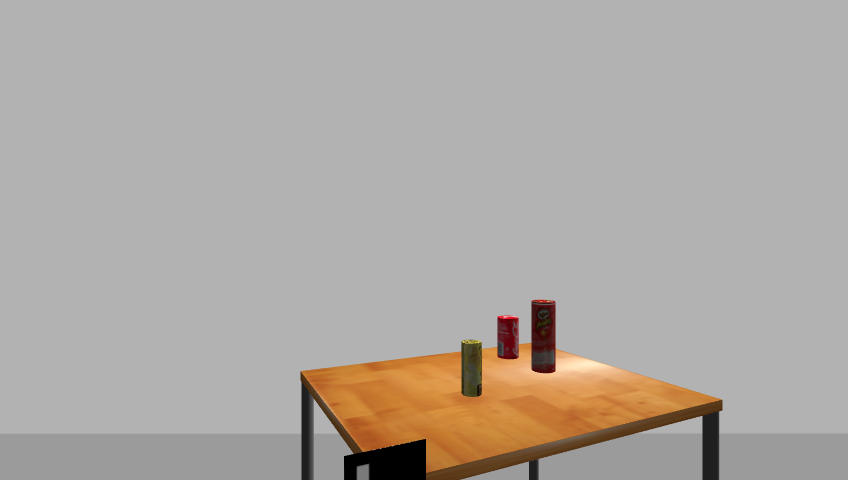aruco marker: (339, 438, 432, 480)
biscuits pack: (459, 339, 483, 398)
coke can: (495, 315, 520, 361)
dinner table: (290, 345, 732, 480)
pringles can: (530, 299, 557, 375)
